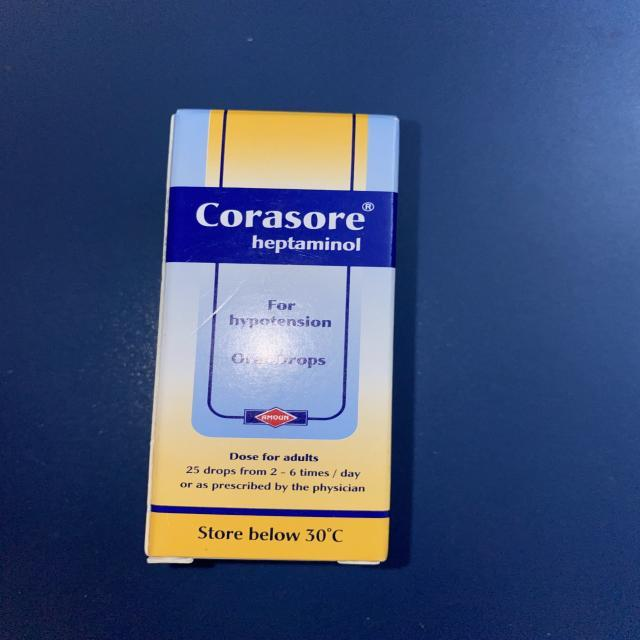Medicine Name: (193, 195, 376, 237)
